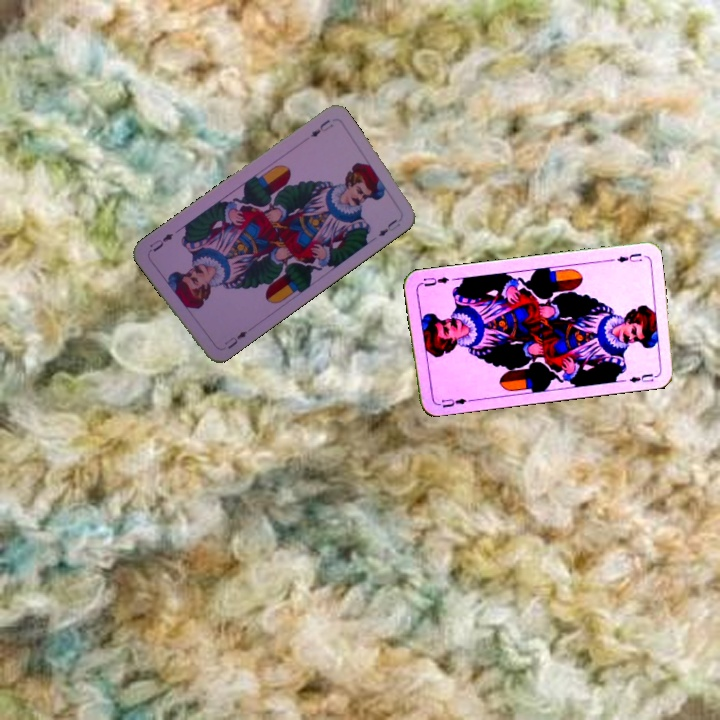EU: (220, 325, 253, 352), (306, 115, 336, 140), (433, 394, 473, 410), (613, 249, 645, 265)
